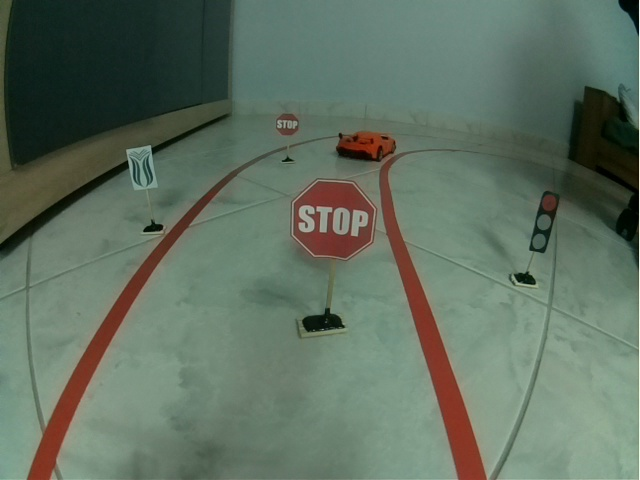Lambo: (336, 129, 397, 163)
Red Traffic Light: (528, 190, 560, 254)
Stop: (290, 179, 378, 262), (275, 113, 300, 137)
Subu: (126, 145, 159, 191)
